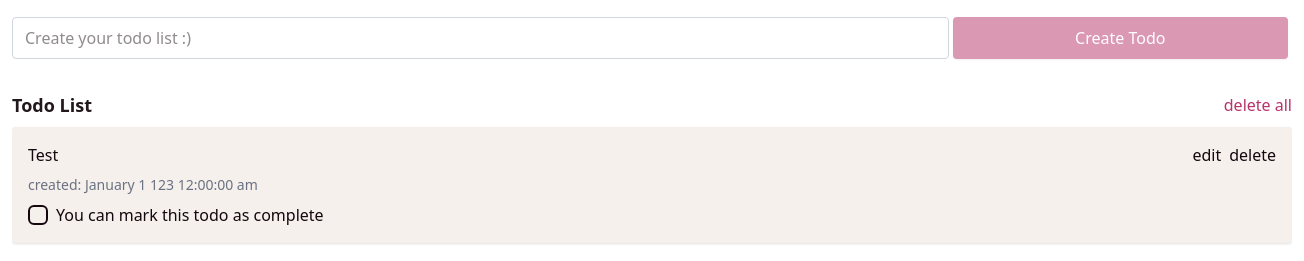
Todos component › cancels edit mode
What coordinates should you click on to do the following:
click the button "edit"
I would click on:
 (1207, 155)
Its box is [1192, 143, 1221, 167].
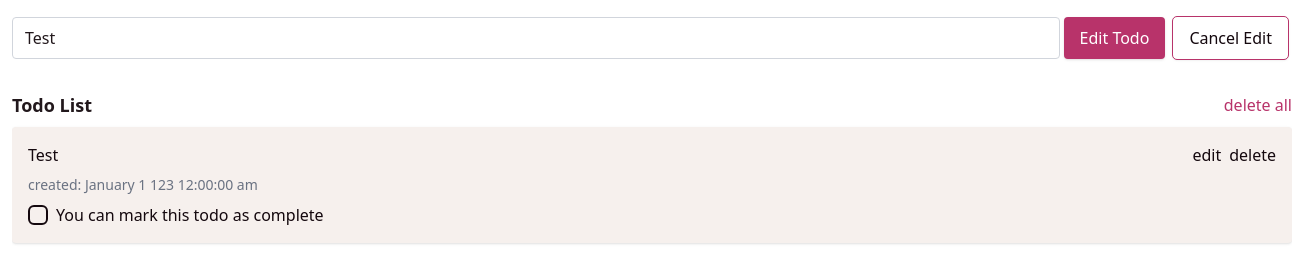
Check: the button "Edit Todo" is shown, box [1064, 17, 1165, 59]
What coordinates should you click on to do the following:
click the button "Cancel Edit"
I would click on:
 (1231, 38)
Its box is [1173, 17, 1288, 59].
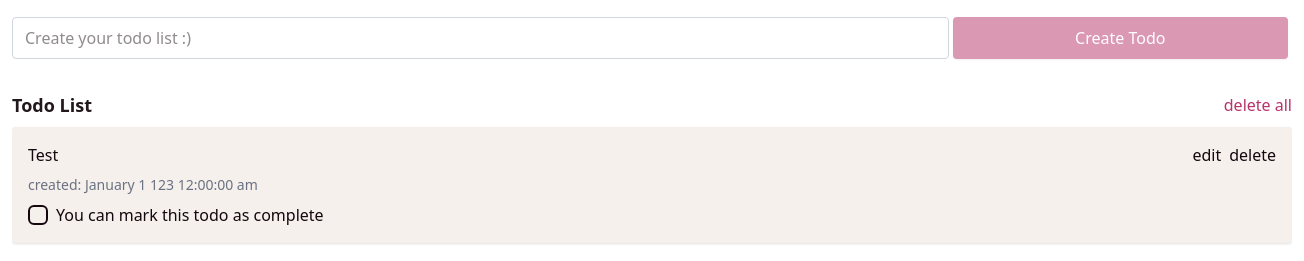
Check: the button "Create Todo" is shown, box [952, 17, 1288, 59]
